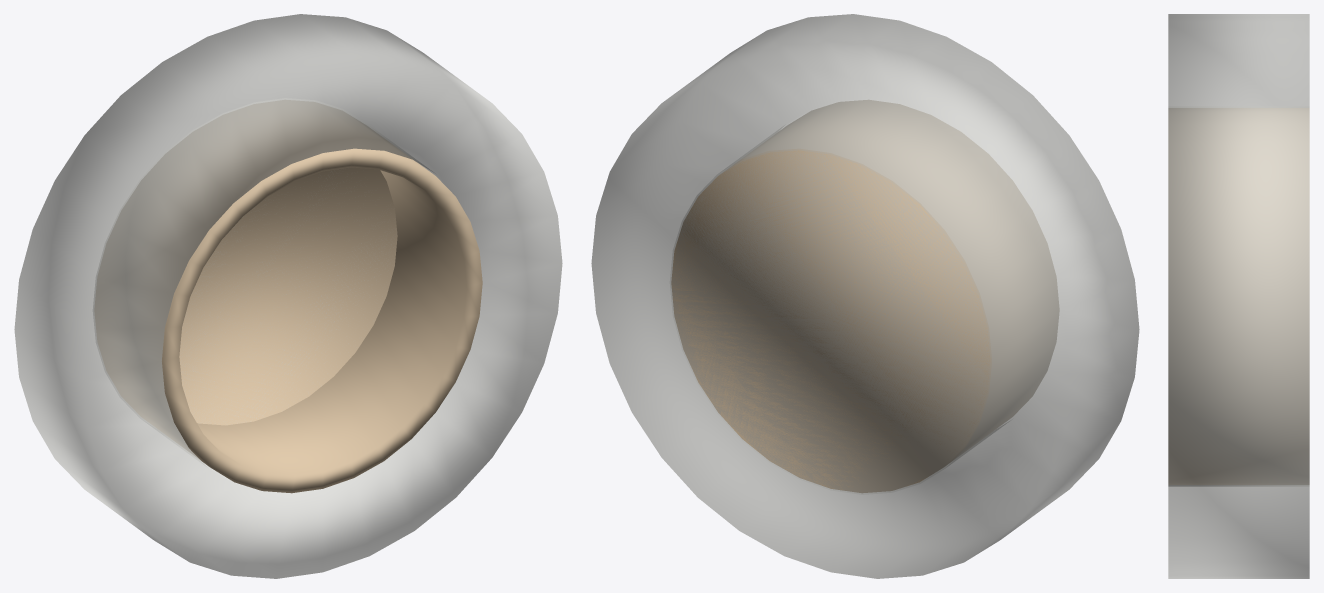
File: tape_roll.glb
3 renders of one model, left to right at view 1: azimuth 30°, elevation 25°; view 2: azimuth 150°, elevation 25°; view 3: azimuth 270°, elevation 25°, orthographic. The views are drawn at different scales.
Visible parts, largest first — view 1: tape_roll, tape_core; view 2: tape_roll, tape_core; view 3: tape_roll, tape_core.
Part boxes in pixels (x1=…): tape_roll: x1=14, y1=14, x2=562, y2=578; tape_core: x1=94, y1=100, x2=482, y2=493; tape_roll: x1=591, y1=14, x2=1139, y2=578; tape_core: x1=671, y1=100, x2=1059, y2=493; tape_roll: x1=1168, y1=14, x2=1309, y2=578; tape_core: x1=1168, y1=108, x2=1309, y2=484.
Size of the model in its own units: 0.06 by 0.06 by 0.015.
